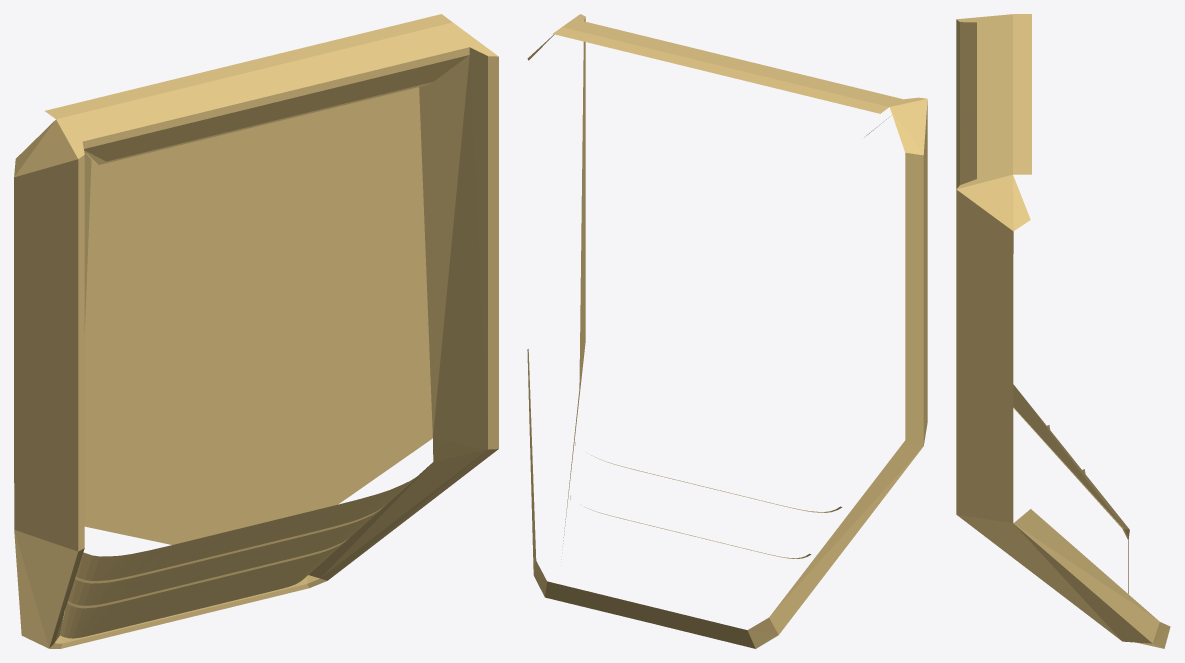
The model's file is robot__visual__rx78_Null_018_link__rx78_Null_017_link__rx78_Null_016_link__rx78_object_080-lib.dae_3.glb.
3 views of the same model, side by side, from view 1: azimuth 30°, elevation 25°; view 2: azimuth 150°, elevation 25°; view 3: azimuth 270°, elevation 25° (orthographic). The views are drawn at different scales.
Visible parts, largest first — view 1: world; view 2: world; view 3: world.
Part boxes in pixels (<box>): world: <box>14,14,498,648</box>; world: <box>527,14,927,648</box>; world: <box>956,14,1170,648</box>.
Size of the model in its own units: 2.05 by 2.48 by 0.9577.
